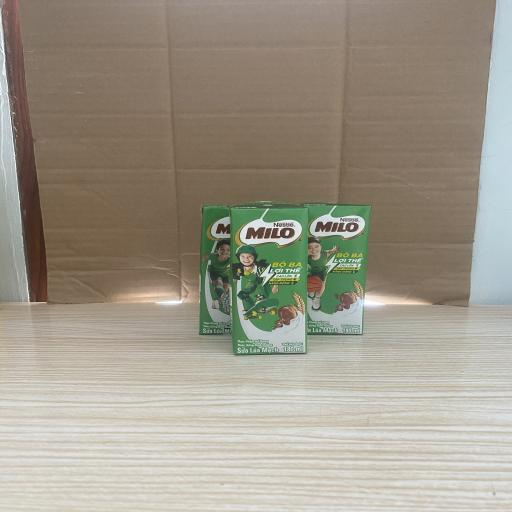milo: (230, 202, 309, 356), (302, 202, 371, 336), (198, 204, 232, 335)
